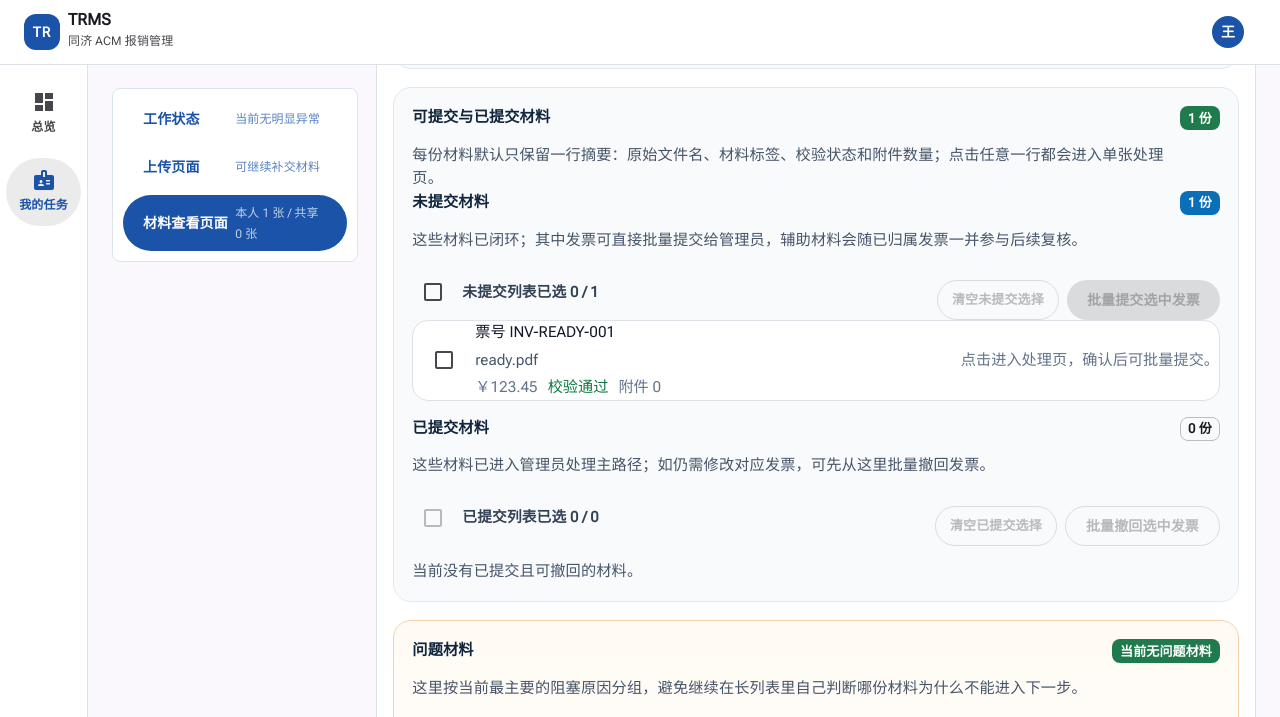
Test case: MemberInvoiceWorkbenchPage › submits selected ready invoices from the workbench
(page scrolled)
Check: the text "未提交列表已选 0 / 1" is shown, box [462,281,599,304]
What coordinates should you click on to do the following:
click the checkbox named "批量选择发票 INV-READY-001"
I would click on:
 (444, 360)
Its box is [432,348,456,372].
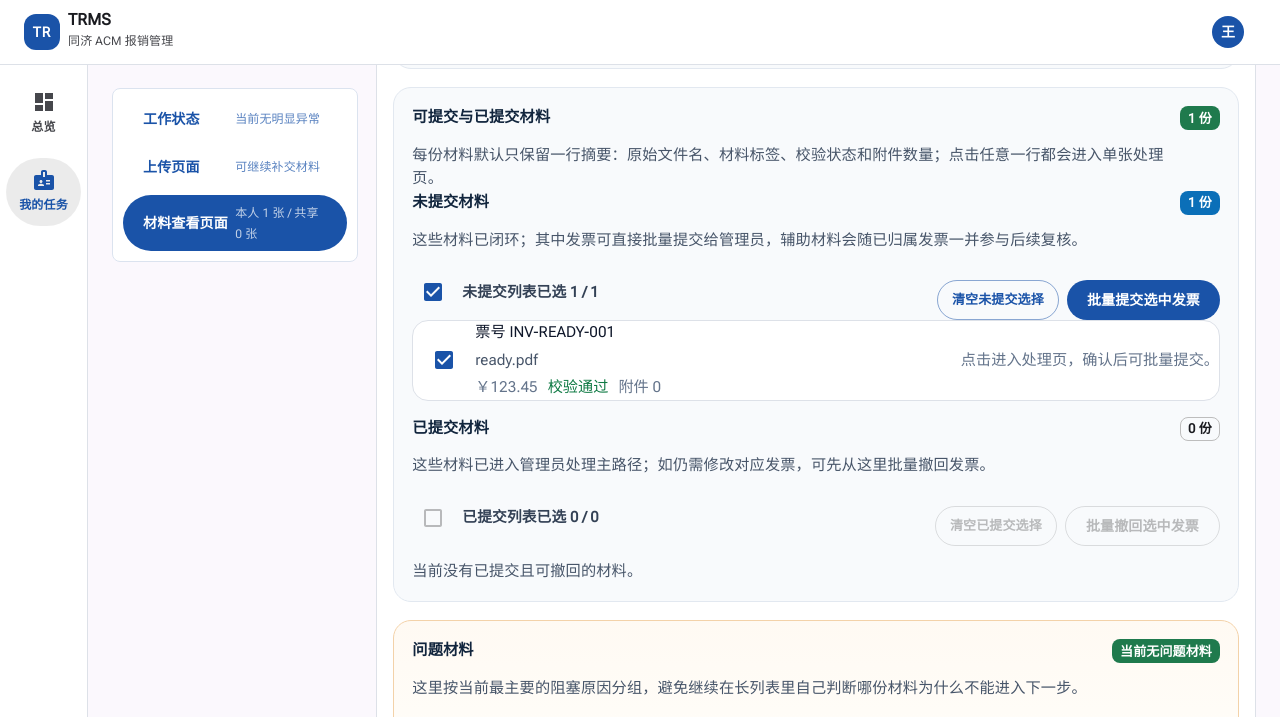
What coordinates should you click on to do the following:
click the button "批量提交选中发票"
I would click on:
 (1143, 300)
Its box is [1067,280,1220,320].
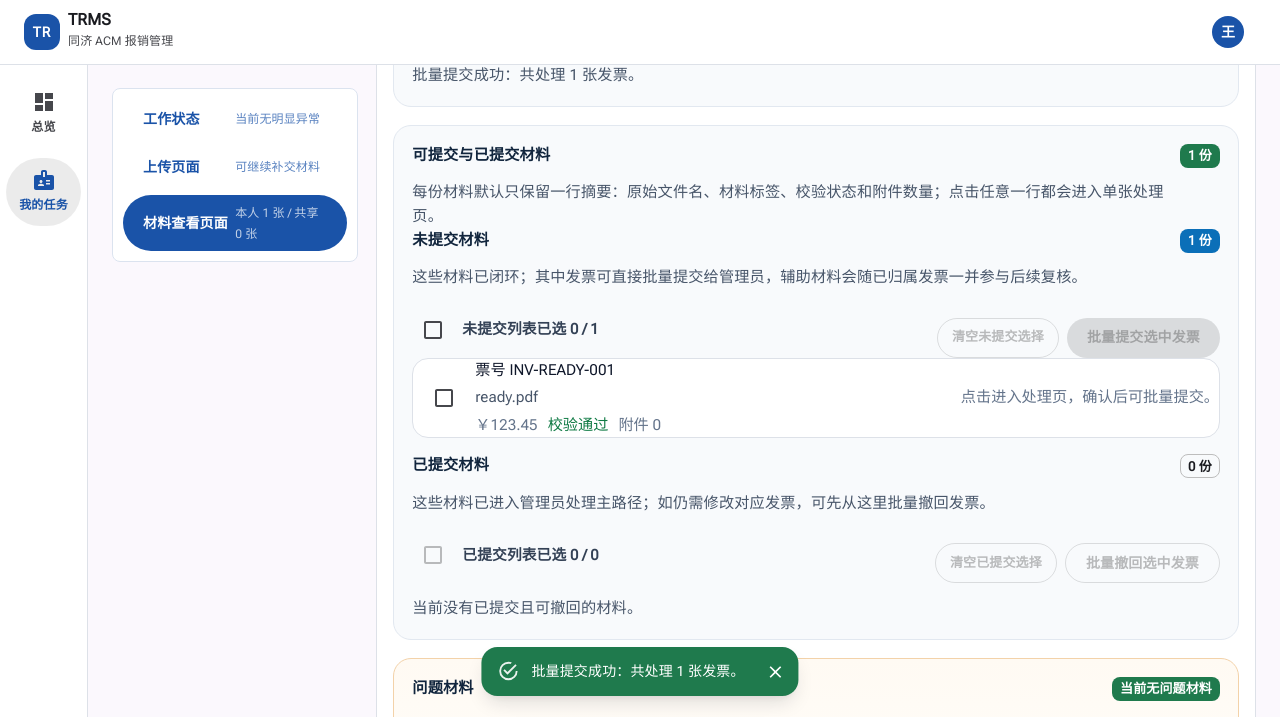
Check: the 2nd text "批量提交成功：共处理 1 张发票。" is shown, box [531,663,745,679]
